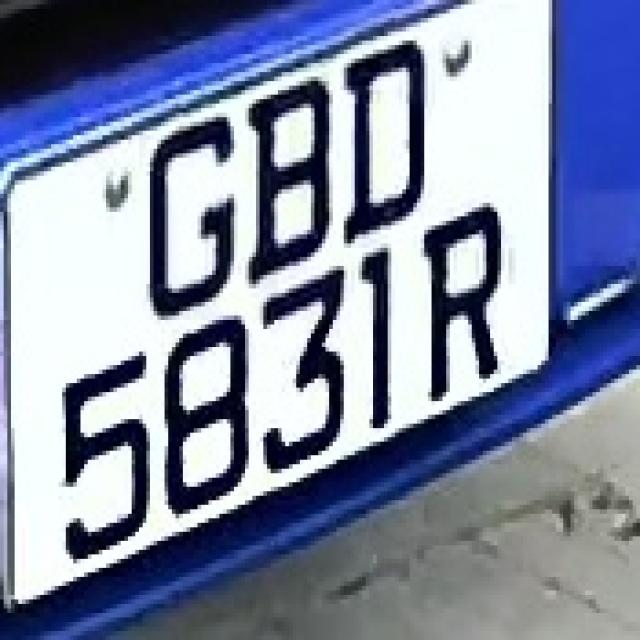1: (362, 208, 402, 456)
3: (267, 266, 347, 478)
5: (51, 351, 161, 568)
8: (161, 306, 252, 523)
B: (245, 63, 333, 271)
D: (340, 27, 439, 234)
G: (132, 108, 234, 325)
R: (417, 198, 505, 415)
